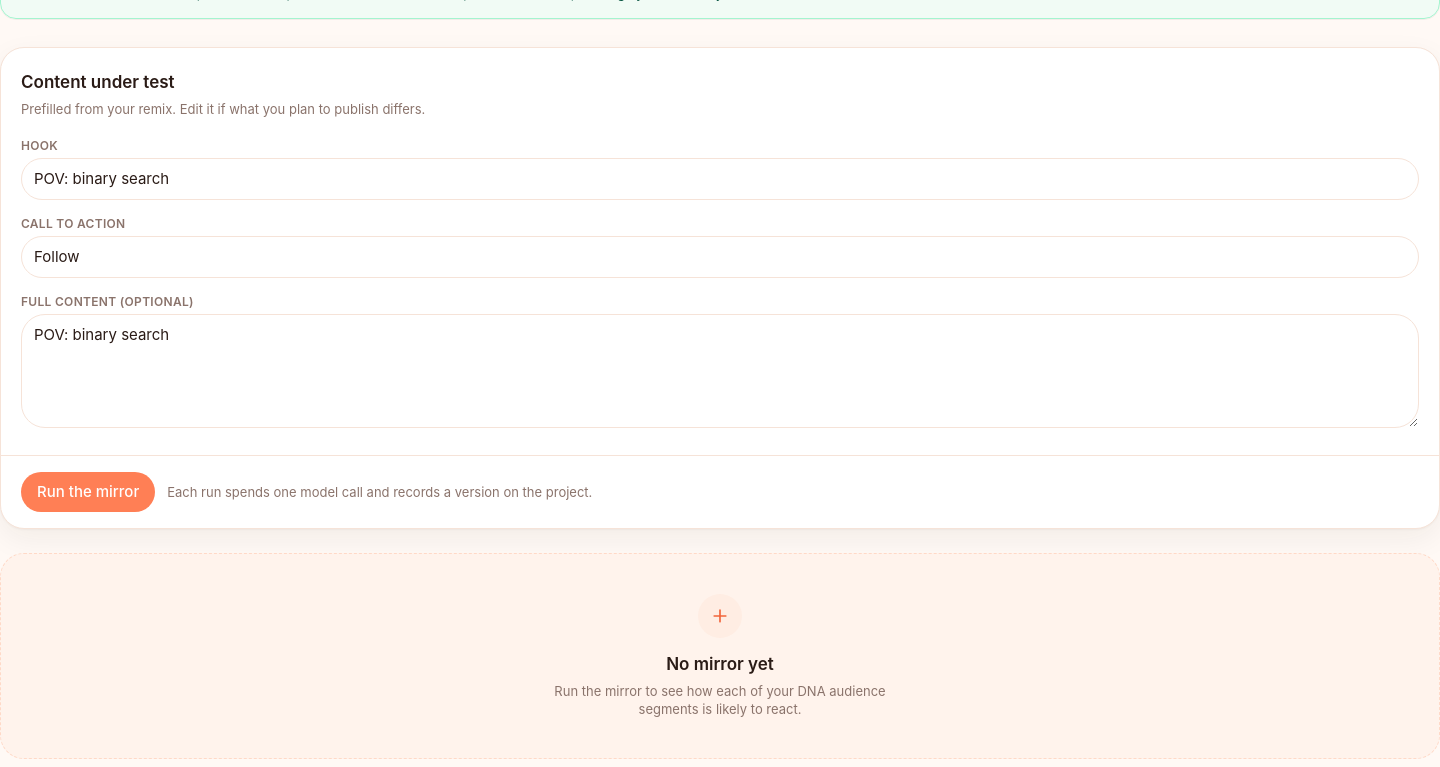
Test: signal emission › records nothing when the creator only looks
(page scrolled)
Click the button "Run the mirror" at (88, 492), box [21,472,155,512]
(page scrolled)
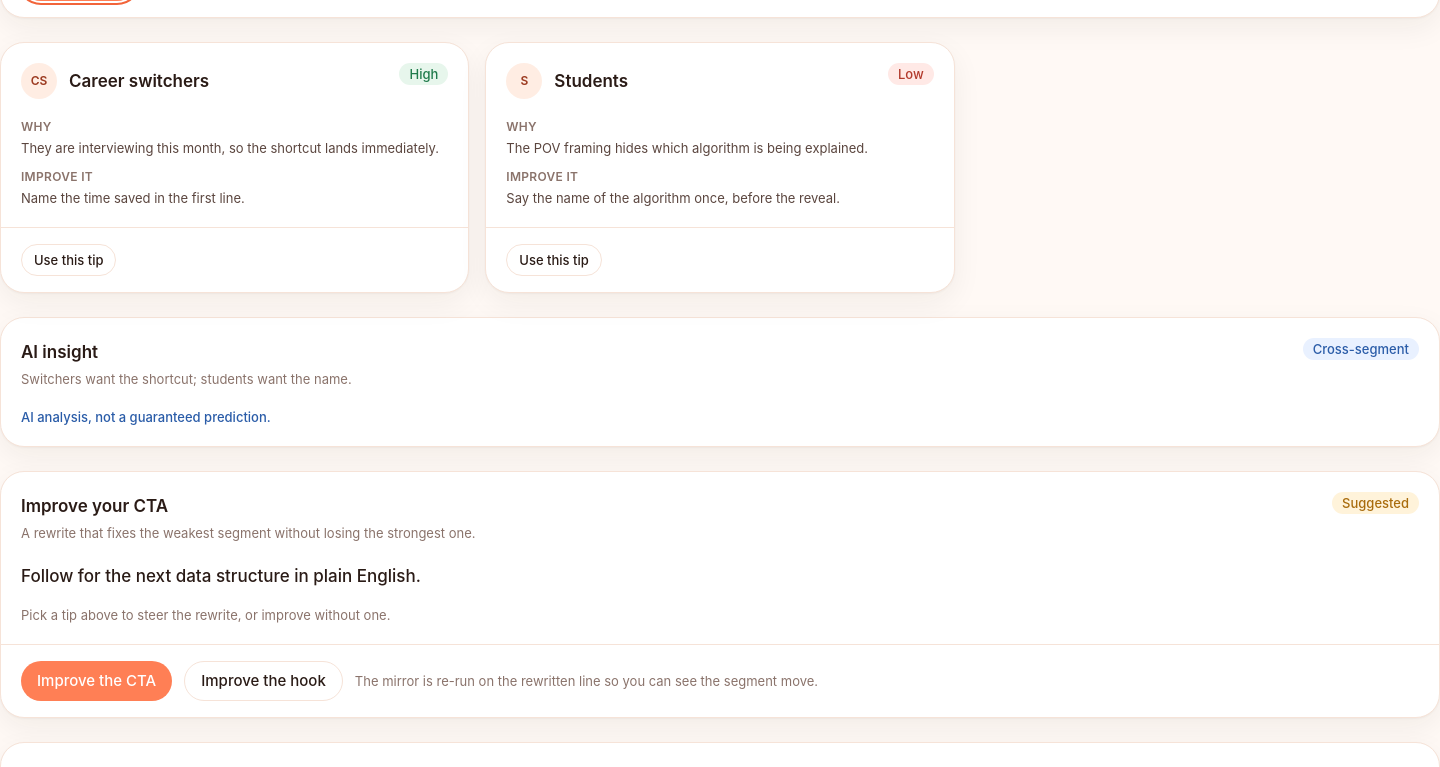
Expected: the text "Switchers want the shortcut; students want the name." is shown, [21,370,352,388]
